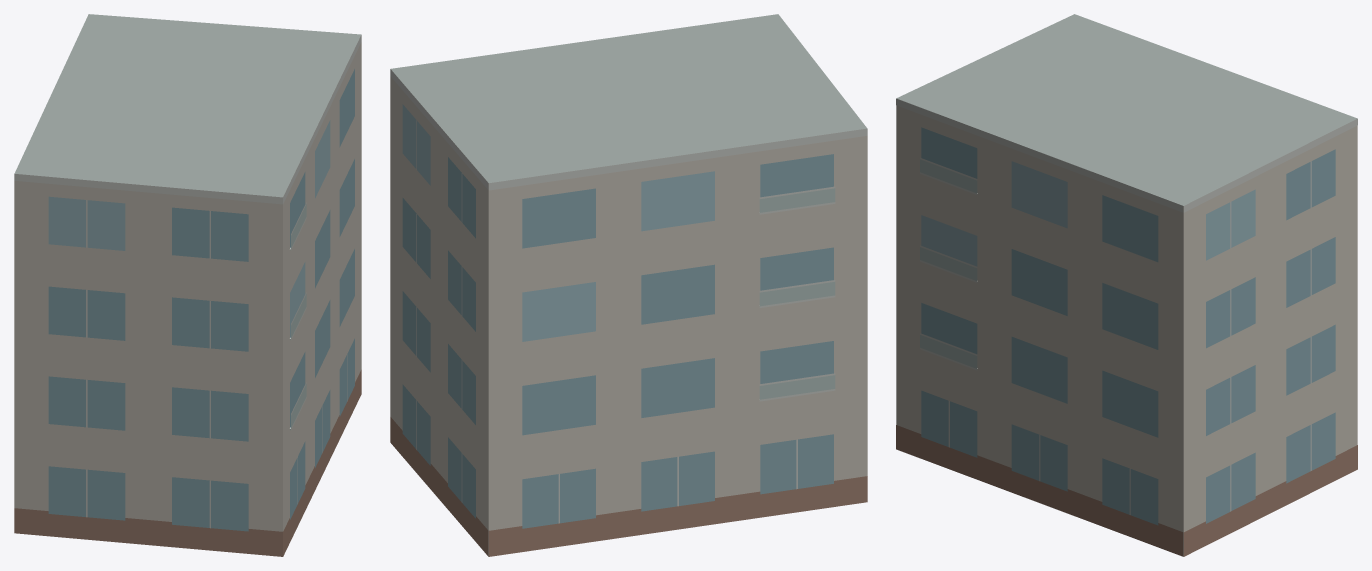
The model's file is survey-upis-32657808.glb.
The picture shows the model from 3 angles, left to right: view 1: azimuth 30°, elevation 25°; view 2: azimuth 150°, elevation 25°; view 3: azimuth 270°, elevation 25°; orthographic projection. The views are drawn at different scales.
Parts seen in each view (by area): view 1: survey-upis-32657808.tmp; view 2: survey-upis-32657808.tmp; view 3: survey-upis-32657808.tmp.
Boxes of the visible parts, bbox=[...] form: survey-upis-32657808.tmp: bbox=[14, 14, 361, 556]; survey-upis-32657808.tmp: bbox=[390, 14, 867, 556]; survey-upis-32657808.tmp: bbox=[896, 14, 1357, 556].
Bounding box in the file's own units: 14.68 × 12.5 × 14.91.
